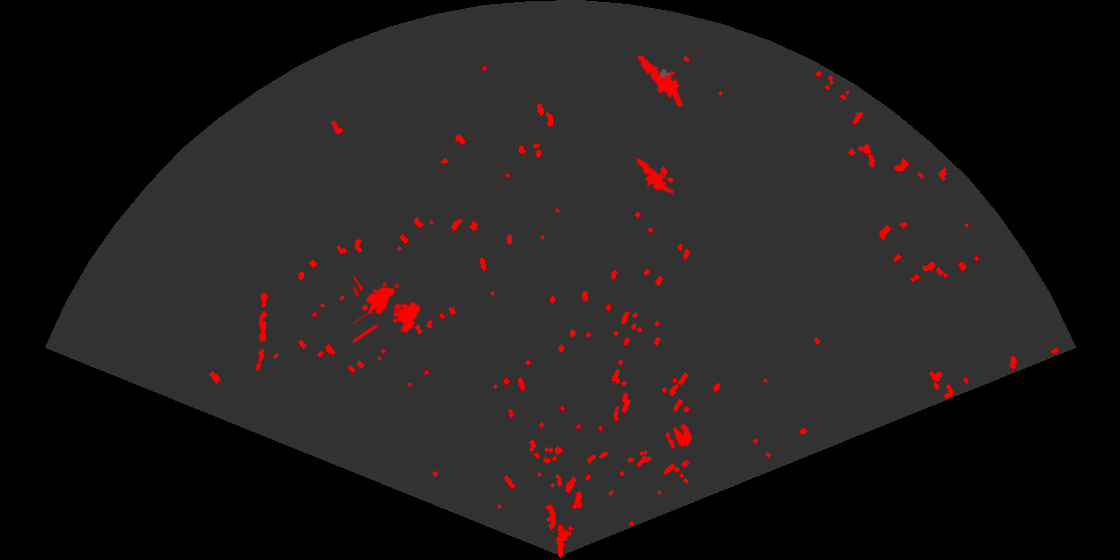ball: (664, 422, 694, 451)
cage: (353, 273, 422, 346)
chain: (254, 292, 271, 372)
frogman: (636, 53, 685, 106), (625, 154, 673, 196)
